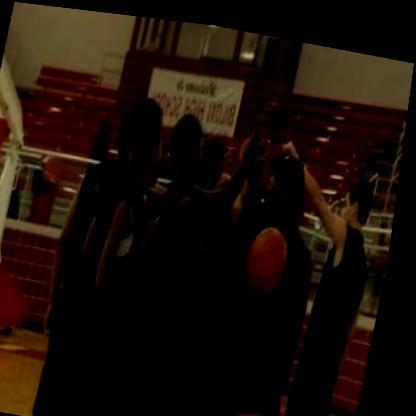basketball: (239, 207, 306, 296)
